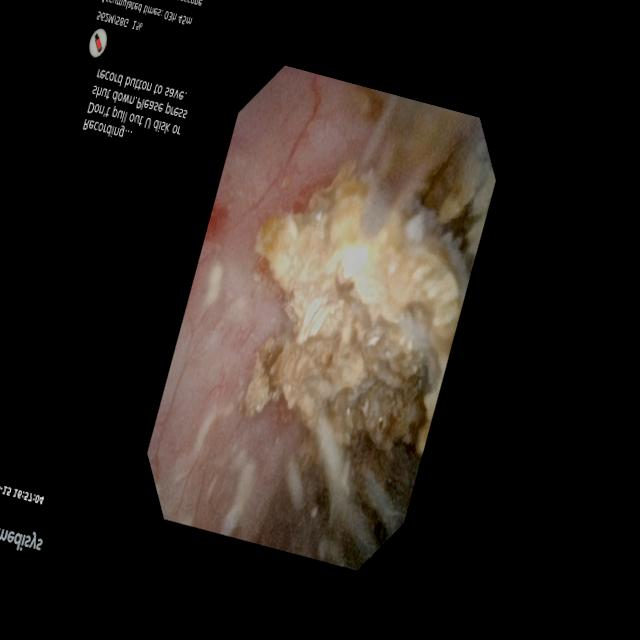laser-fibre: (364, 95, 450, 231)
laser_dot: (342, 245, 367, 278)
stone-new: (245, 166, 465, 452)
